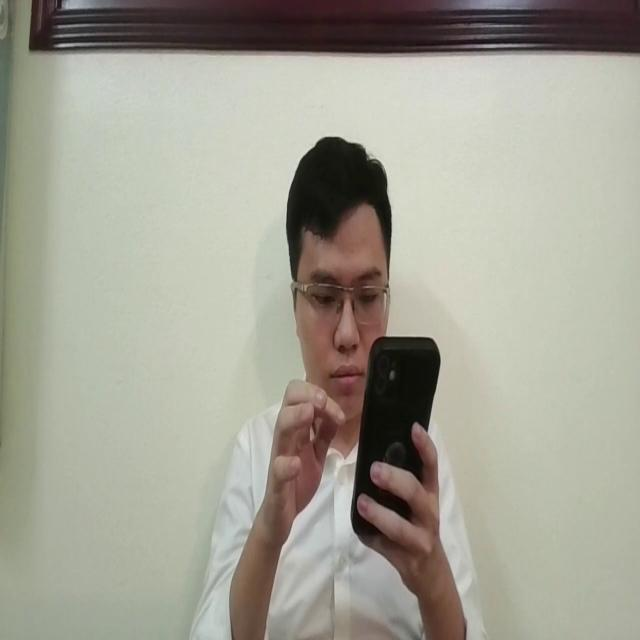phone: (344, 326, 442, 546)
student: (193, 143, 489, 640)
